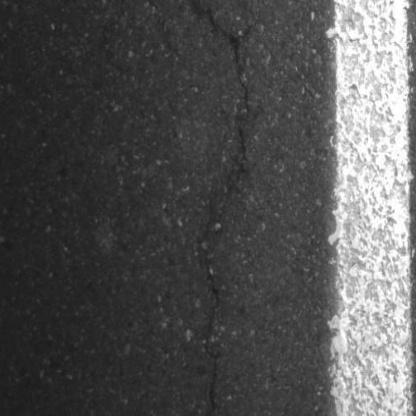Cracks: (180, 0, 255, 416), (110, 0, 138, 34)
